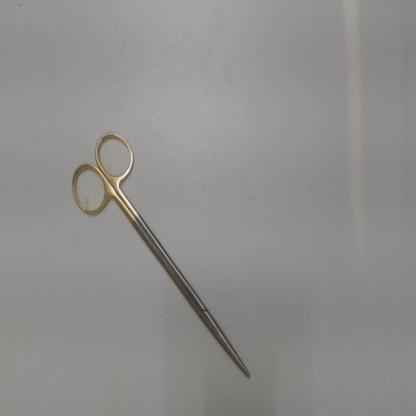7 Metzenbaum Scissors: (68, 124, 256, 387)
